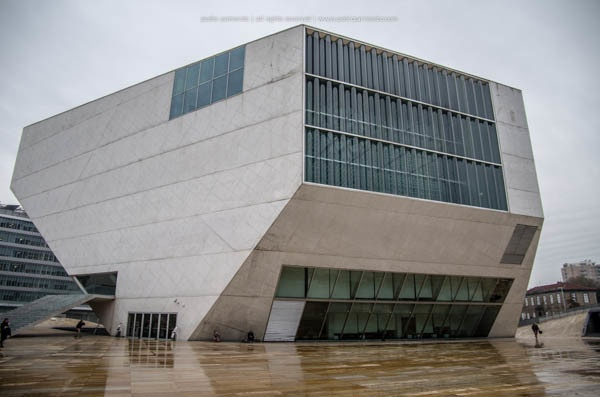musica: (10, 20, 546, 343)
